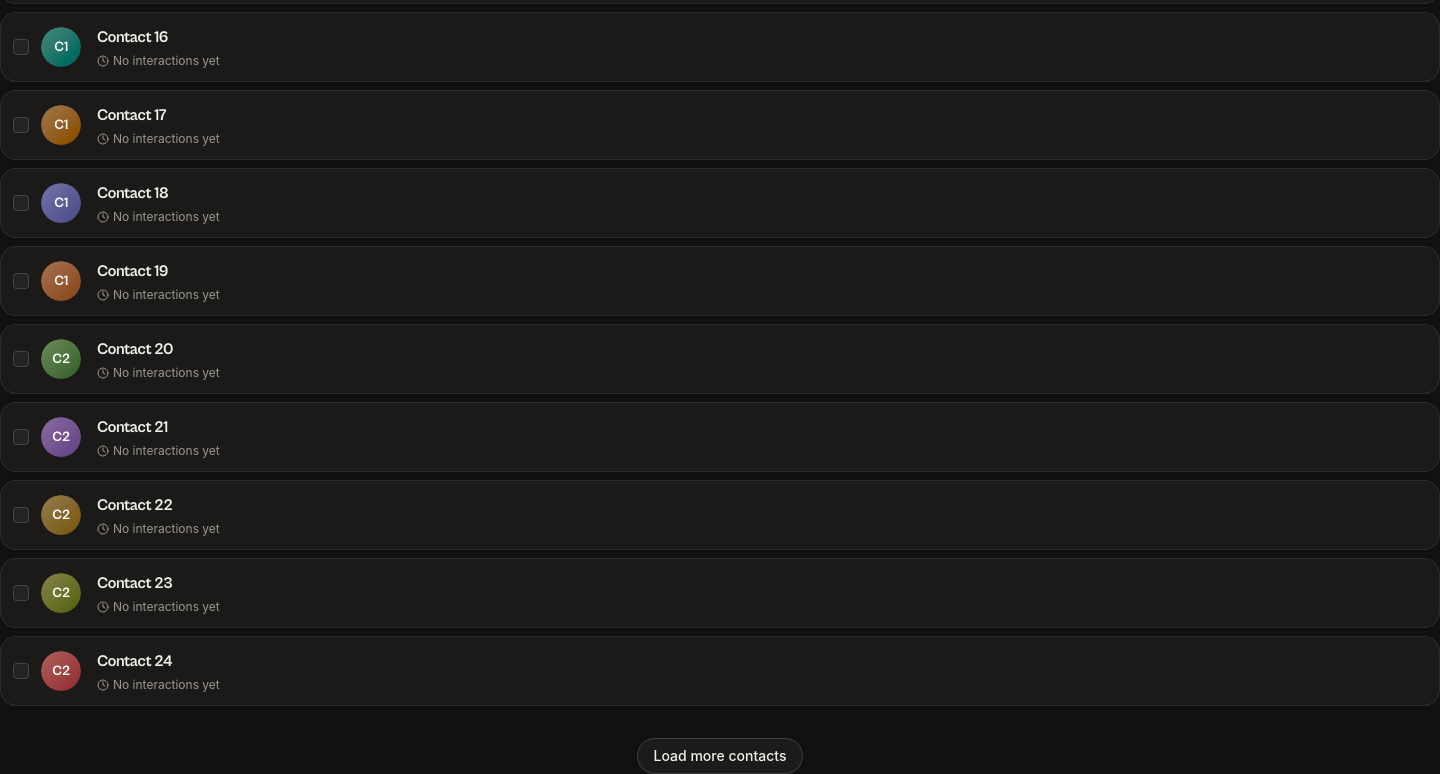
Test case: ContactsList › loads the next contacts page from the server and appends it
(page scrolled)
What coordinates should you click on to do the following:
click the button "Load more contacts"
I would click on:
 (720, 756)
Its box is [637,738,803,773].
(page scrolled)
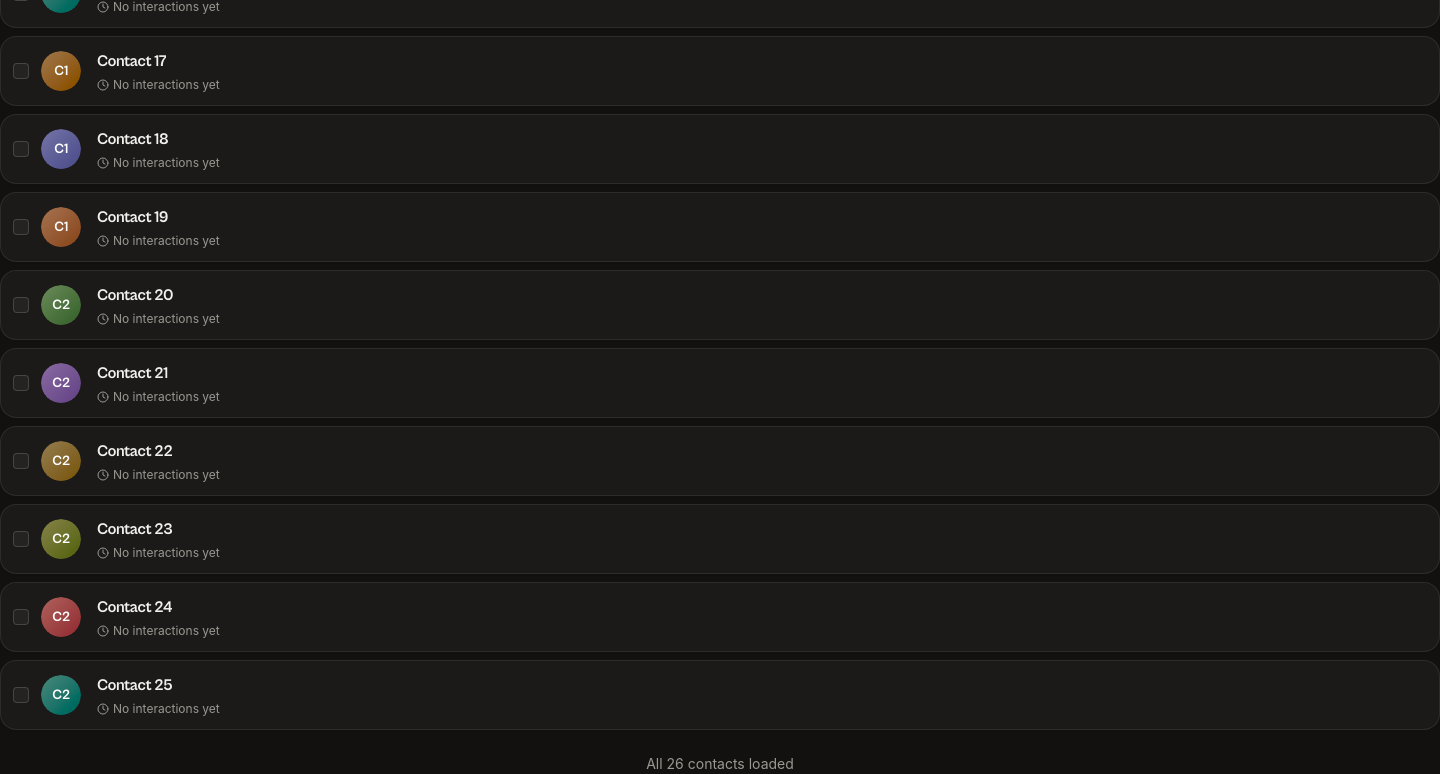
Expected: the text "Contact 25" is shown, [97,673,172,697]
Expected: the text "All 26 contacts loaded" is shown, [646,755,794,772]
